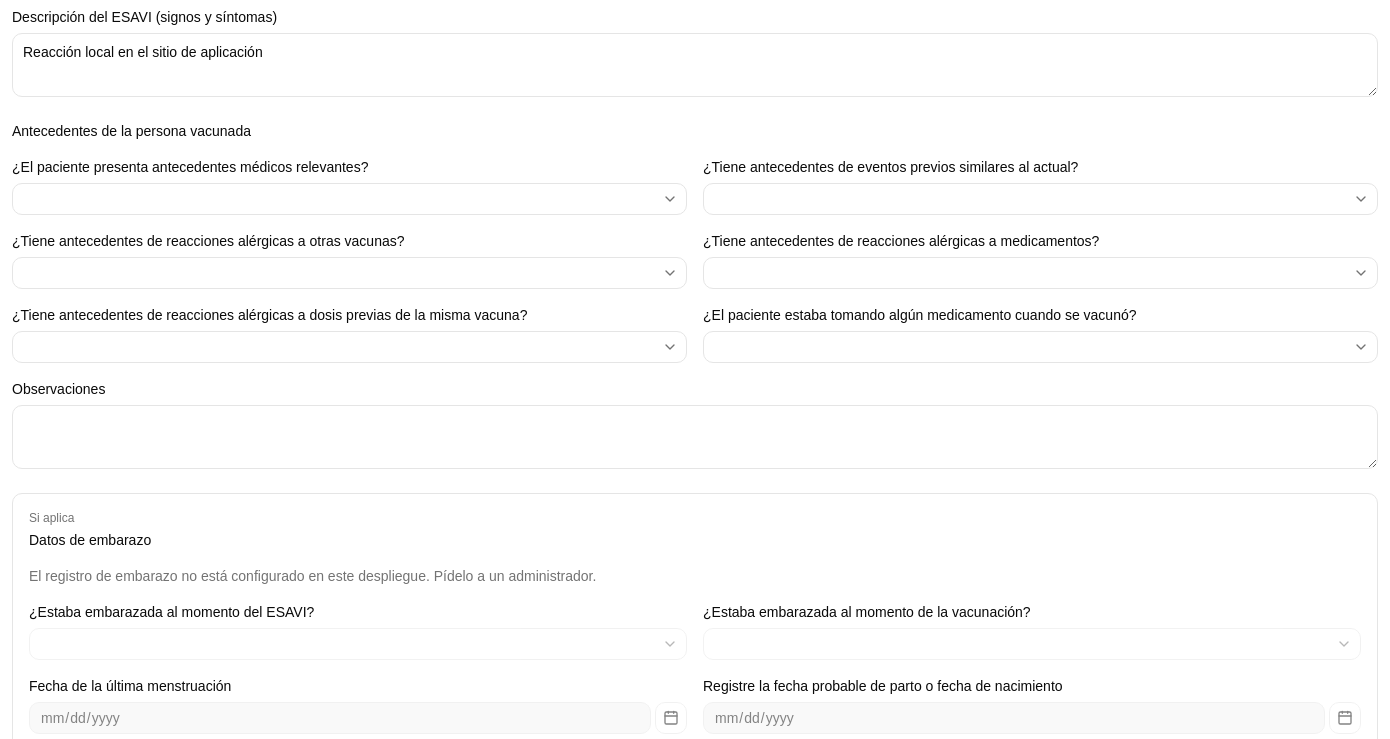
NotificationStep — expediente cerrado por el servidor (SPEC FE17 §4 paso 7) › un 409 NOTIFCN_004_CASE_CLOSED muestra un solo toast con el texto del servidor, relee el 006 y deja el paso en sólo lectura
Type " con edema" into the text box labelled "Descripción del ESAVI (signos y síntomas)". click: [695, 65]
box: x1=12 y1=33 x2=1378 y2=97
(page scrolled)
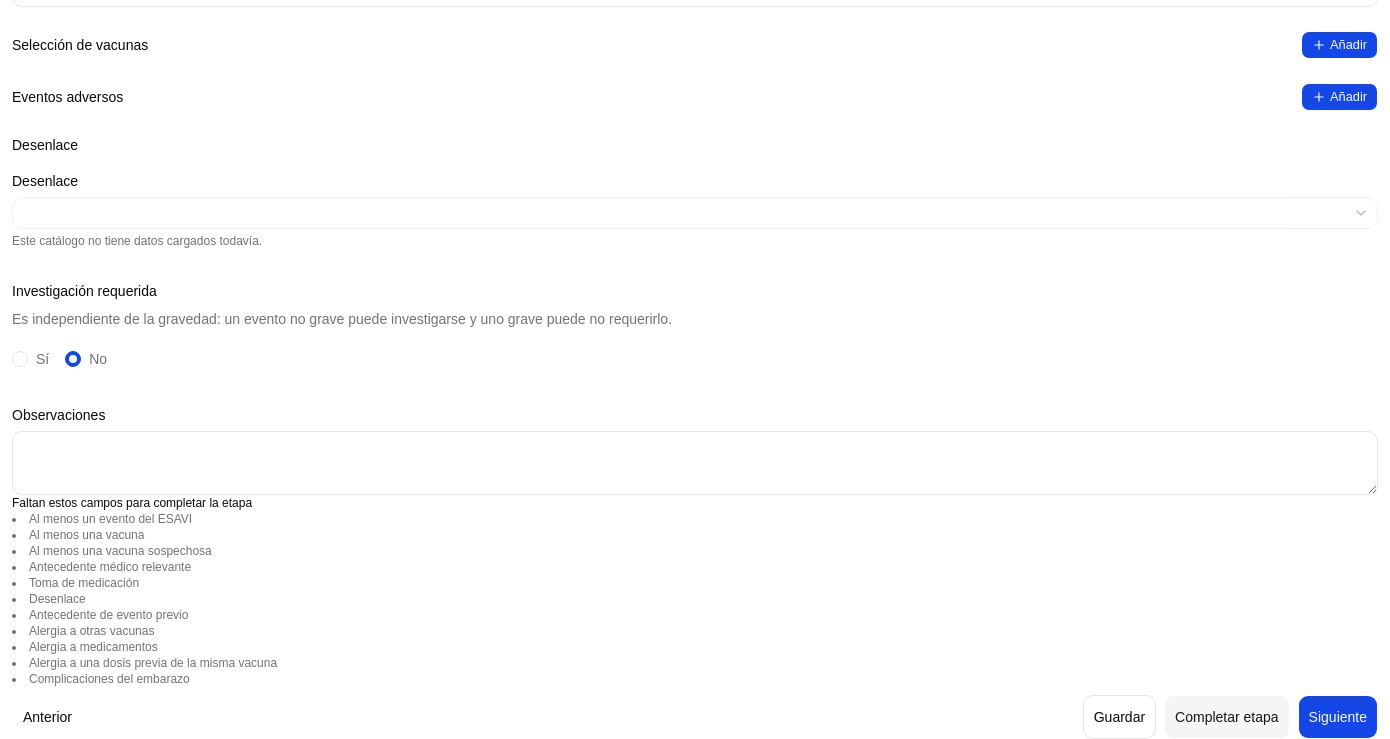
Click the button "Guardar". click: [1119, 717]
box: x1=1083 y1=695 x2=1156 y2=738
(page scrolled)
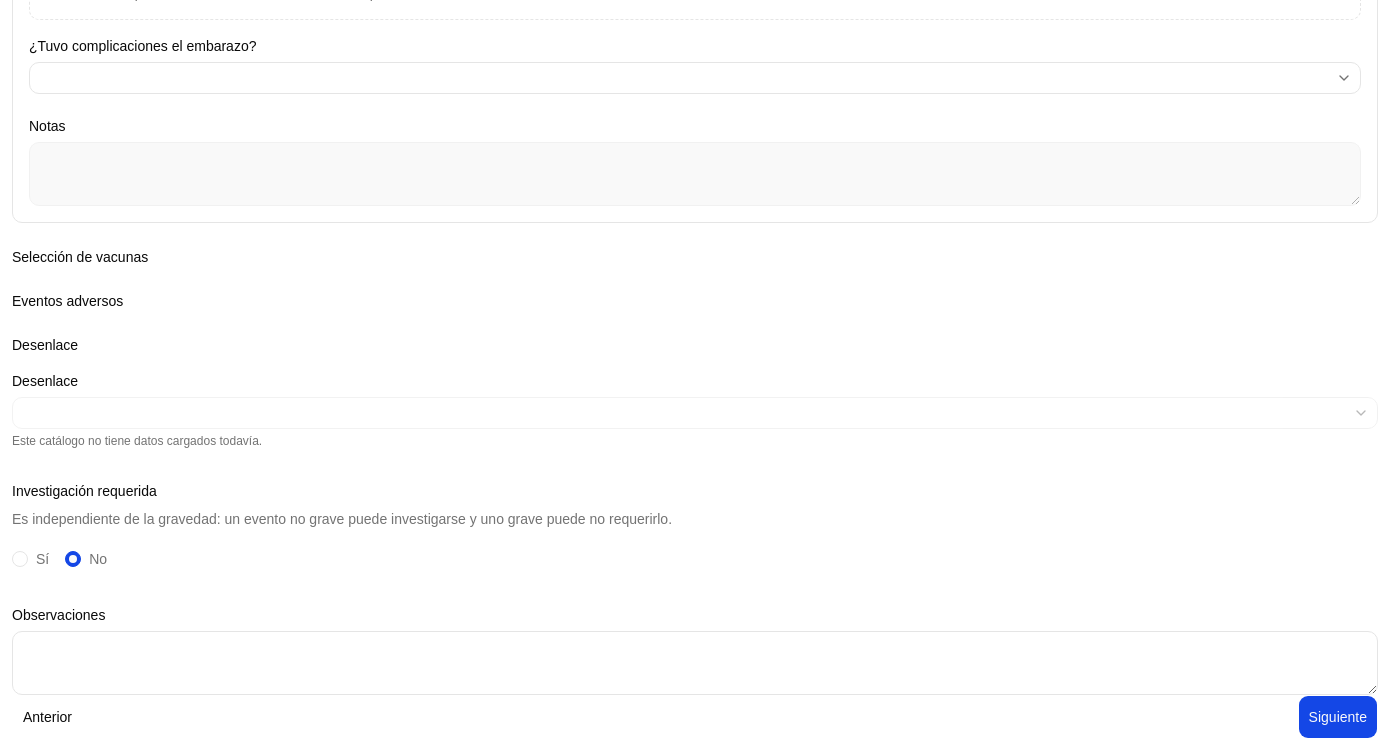
Check: the button "Guardar" is gone
